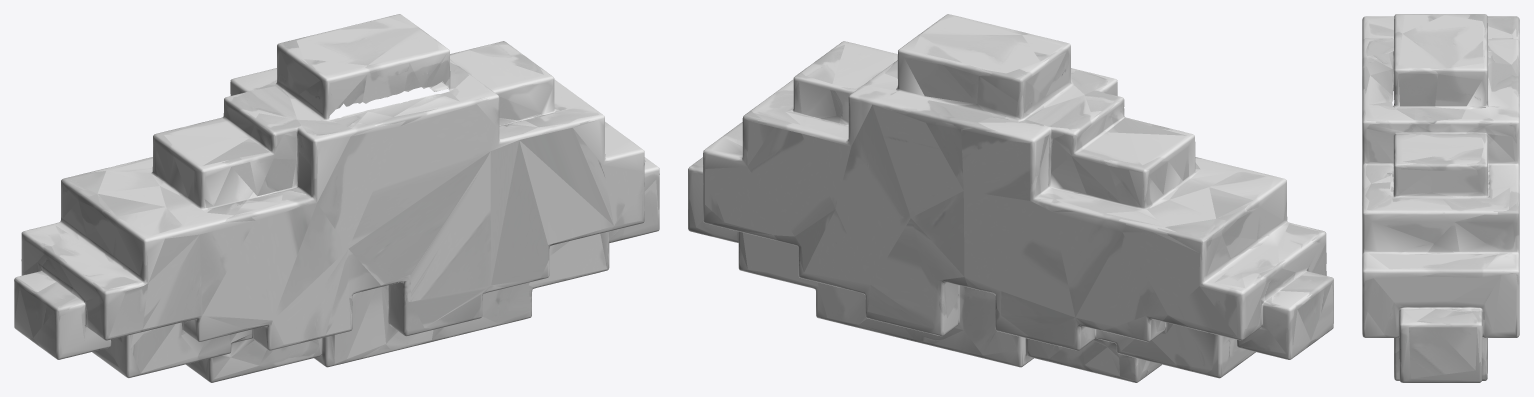
Rendered from nube2.glb.
3 views of the same model, side by side, from view 1: azimuth 30°, elevation 25°; view 2: azimuth 150°, elevation 25°; view 3: azimuth 270°, elevation 25° (orthographic). The views are drawn at different scales.
Visible parts, largest first — view 1: Mesh_0.019; view 2: Mesh_0.019; view 3: Mesh_0.019.
Boxes of the visible parts, <box> form: Mesh_0.019: <box>14,14,659,382</box>; Mesh_0.019: <box>688,14,1333,382</box>; Mesh_0.019: <box>1362,14,1519,382</box>.
Bounding box in the file's own units: 190 × 86.96 × 46.37.
1 material, 1 textured.
